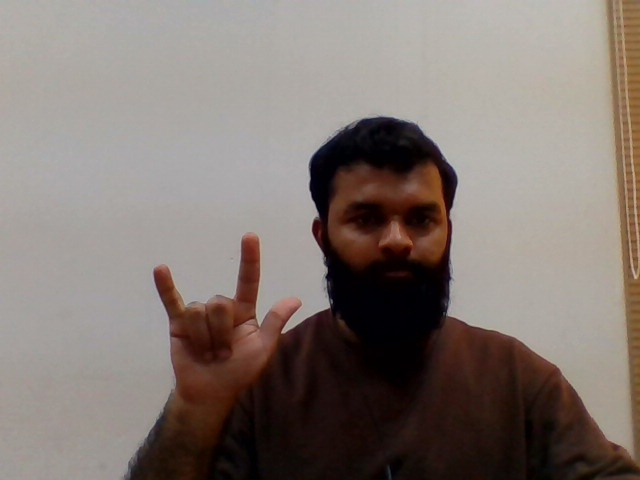I Love you: (141, 223, 311, 433)
